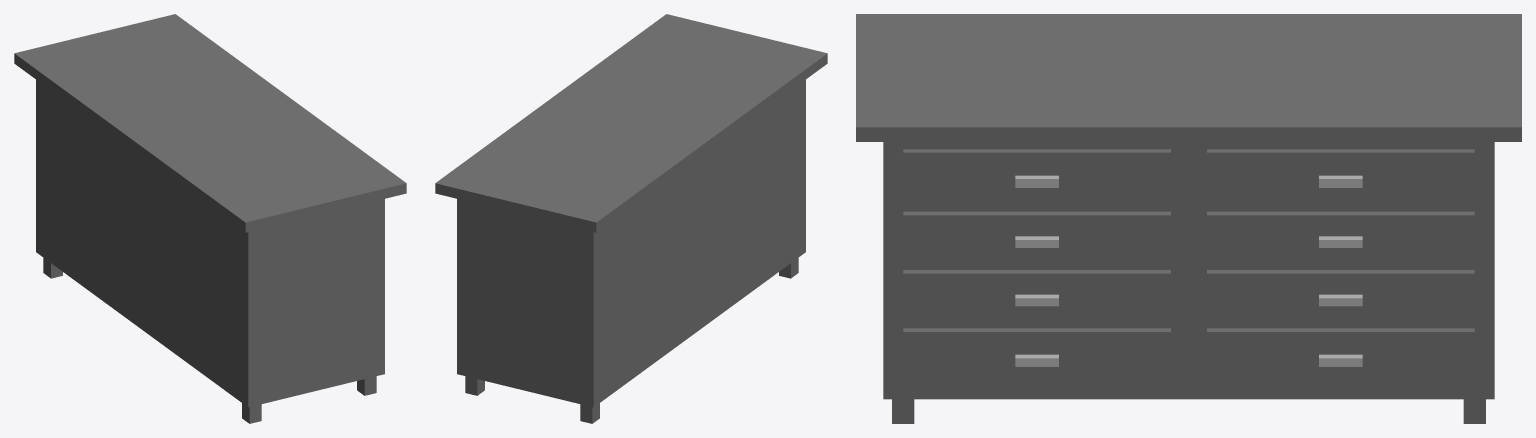
File: SM_Desk_05.glb
The picture shows the model from 3 angles, left to right: view 1: azimuth 30°, elevation 25°; view 2: azimuth 150°, elevation 25°; view 3: azimuth 270°, elevation 25°; orthographic projection. The views are drawn at different scales.
Parts seen in each view (by area): view 1: SM_Desk_05; view 2: SM_Desk_05; view 3: SM_Desk_05.
Part boxes in pixels (bbox=[...]): SM_Desk_05: bbox=[14, 14, 406, 423]; SM_Desk_05: bbox=[435, 14, 827, 423]; SM_Desk_05: bbox=[856, 14, 1521, 423].
Bounding box in the file's own units: 0.514 × 0.654 × 1.28.
Materials: 1 (1 with a texture image).
